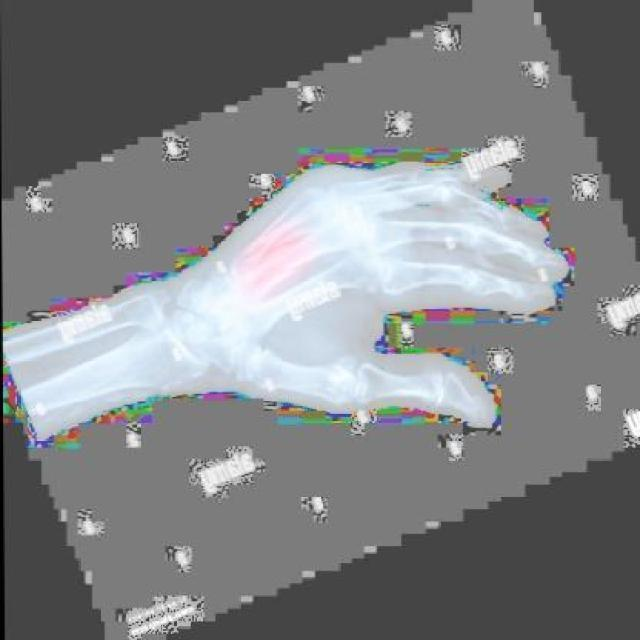Fracture: (251, 241, 305, 294)
